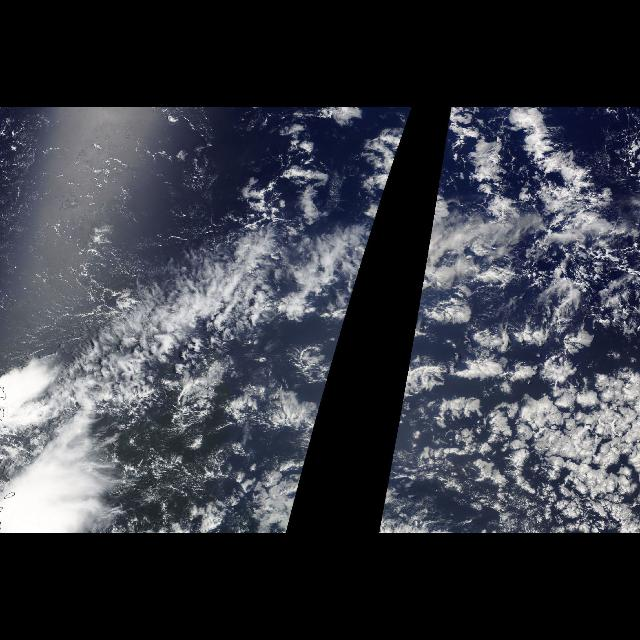Fish: (15, 184, 387, 382), (405, 184, 639, 382)
Flower: (405, 230, 585, 486), (258, 142, 372, 522)
Sugar: (17, 245, 112, 352)
